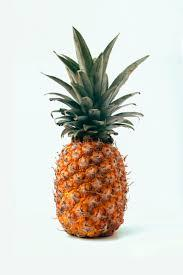non-mango: (40, 25, 150, 238)
